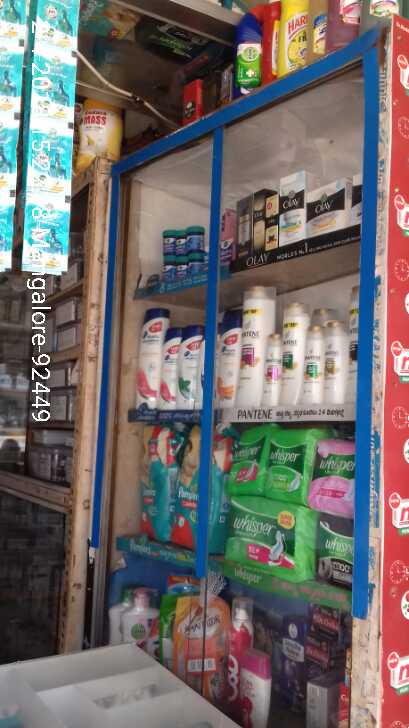vicks: (161, 221, 213, 274)
